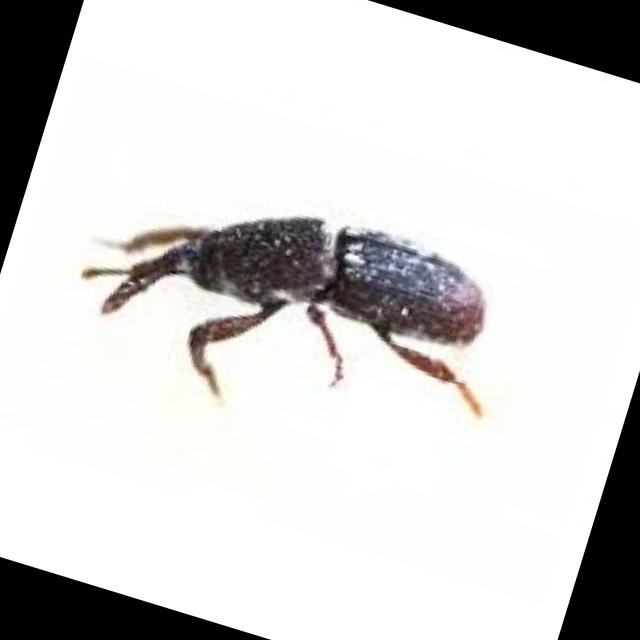rice-bug: (88, 154, 514, 456)
